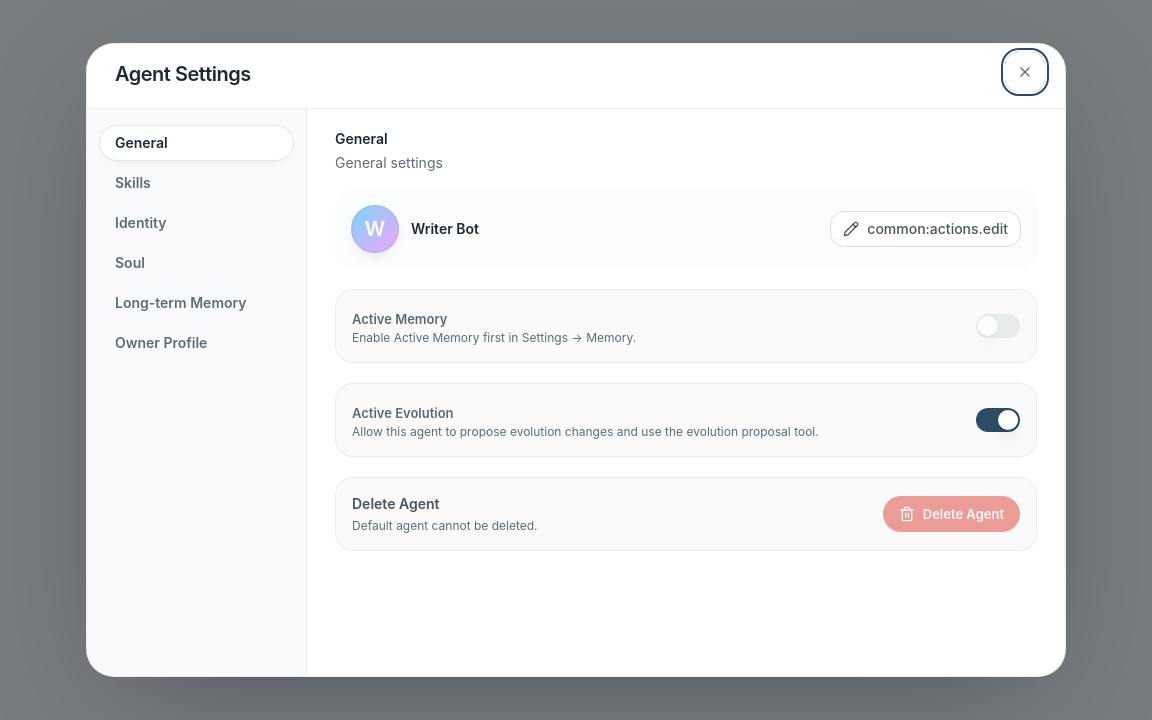
AgentSettingsDialog shell › renders left navigation and switches sections
This screenshot has width=1152, height=720.
Expected: the panel "General" is shown, 331,129 -> 1041,656
Expected: the text "Writer Bot" is shown, 411,219 -> 479,239
Click the tab "Identity".
click(196, 223)  # box 99,205 -> 294,241
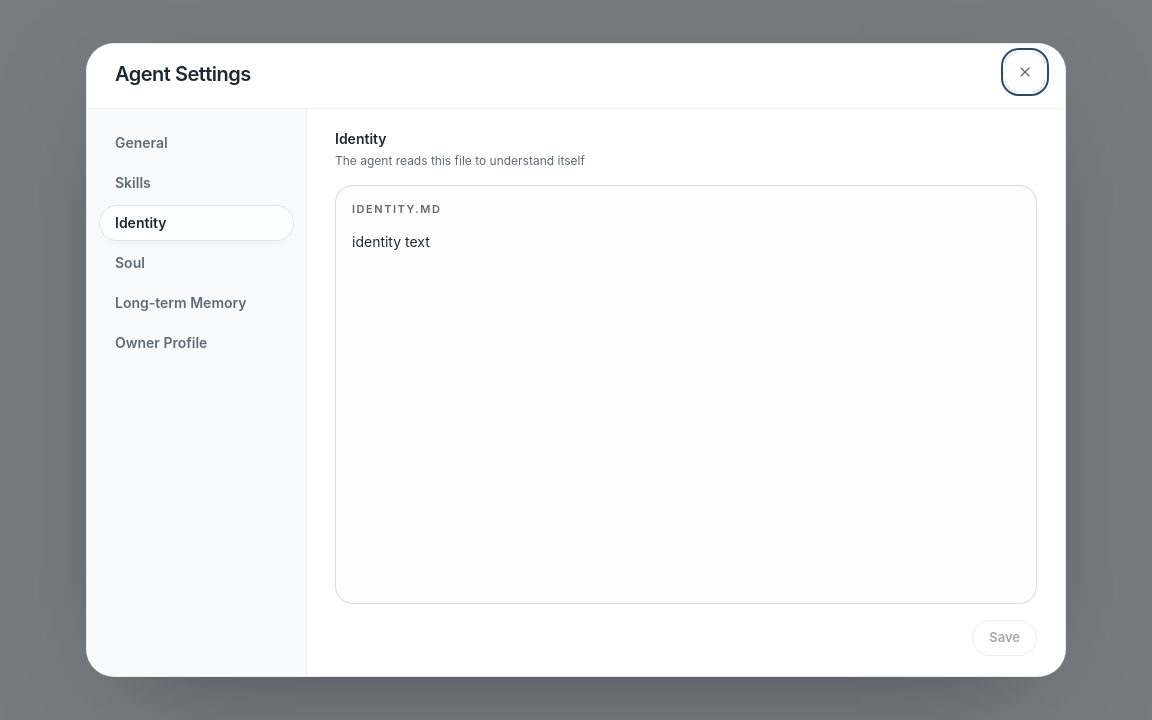
Now the panel "Identity" is shown, box 331,129 -> 1041,656
Now the text box labelled "IDENTITY.md" holds "identity text", box 352,230 -> 1020,587
Click the tab "Owner Profile".
click(196, 343)  # box 99,325 -> 294,361
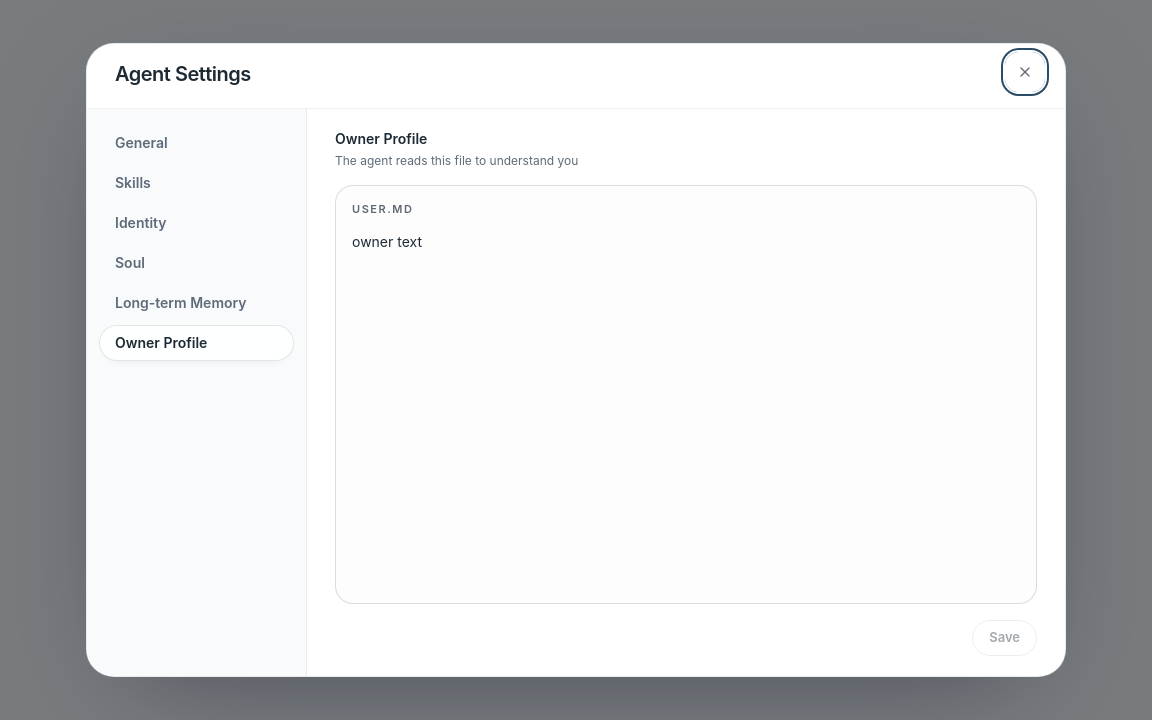
Now the panel "Owner Profile" is shown, box 331,129 -> 1041,656
Now the text box labelled "USER.md" holds "owner text", box 352,230 -> 1020,587
